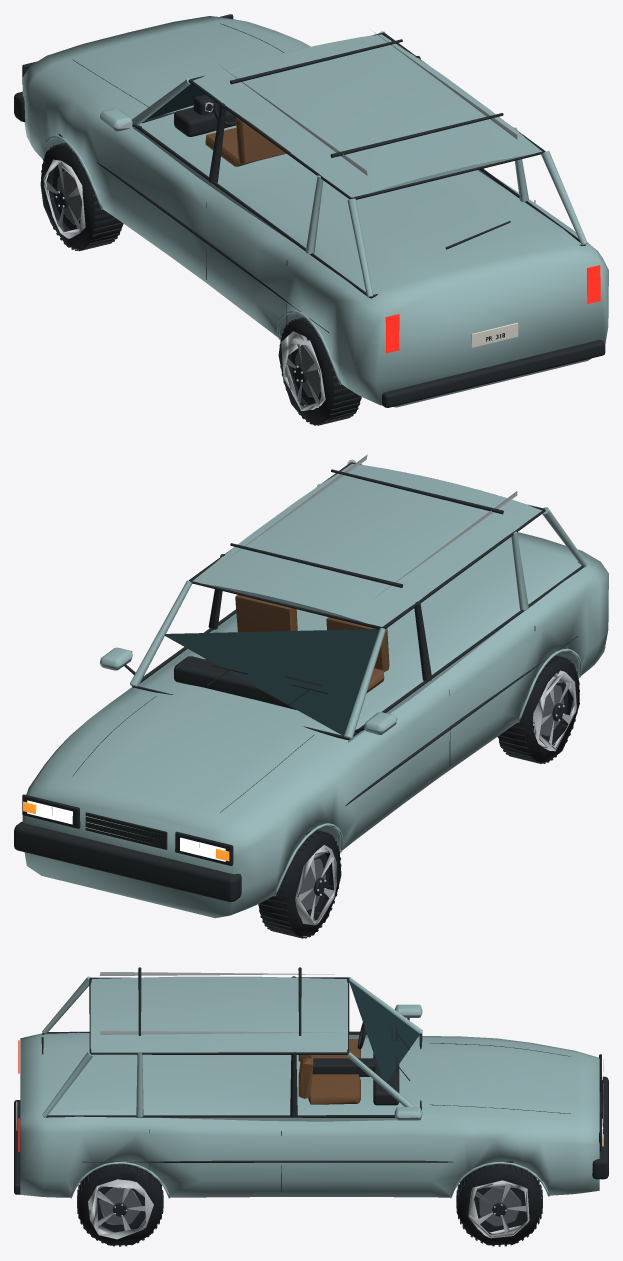
The model's file is traffic-wagon-lod.glb.
3 views of the same model, one above another, from view 1: azimuth 30°, elevation 25°; view 2: azimuth 150°, elevation 25°; view 3: azimuth 270°, elevation 25° (orthographic). The views are drawn at different scales.
Parts seen in each view (by area): view 1: Traffic enamel.001, Traffic polymer.001, Traffic tire rubber.001, Traffic satin alloy.001, Traffic upholstery.001, Dark brake steel.001, Traffic ruby lamps.001, Traffic registration.001, Traffic smoked glazing.001; view 2: Traffic enamel.001, Traffic polymer.001, Traffic smoked glazing.001, Traffic tire rubber.001, Traffic satin alloy.001, Traffic upholstery.001, Dark brake steel.001, Traffic ivory lamps.001; view 3: Traffic enamel.001, Traffic polymer.001, Traffic tire rubber.001, Traffic satin alloy.001, Traffic smoked glazing.001, Traffic upholstery.001, Dark brake steel.001.
Part boxes in pixels (box(x1,y1,x2,y2)): Traffic enamel.001: box(22, 16, 608, 407); Traffic polymer.001: box(14, 14, 605, 425); Traffic tire rubber.001: box(40, 144, 361, 424); Traffic satin alloy.001: box(43, 30, 517, 410); Traffic upholstery.001: box(205, 116, 290, 166); Dark brake steel.001: box(57, 170, 320, 397); Traffic ruby lamps.001: box(385, 265, 600, 353); Traffic registration.001: box(471, 323, 518, 347); Traffic smoked glazing.001: box(146, 84, 204, 119); Traffic enamel.001: box(22, 459, 608, 918); Traffic polymer.001: box(14, 462, 605, 938); Traffic smoked glazing.001: box(165, 629, 378, 735); Traffic tire rubber.001: box(259, 657, 579, 936); Traffic satin alloy.001: box(51, 454, 577, 925); Traffic upholstery.001: box(205, 593, 389, 693); Dark brake steel.001: box(298, 685, 564, 910); Traffic ivory lamps.001: box(27, 800, 225, 861); Traffic enamel.001: box(20, 976, 599, 1198); Traffic polymer.001: box(14, 967, 608, 1246); Traffic tire rubber.001: box(77, 1164, 541, 1245); Traffic satin alloy.001: box(88, 972, 603, 1239); Traffic smoked glazing.001: box(349, 981, 419, 1082); Traffic upholstery.001: box(298, 1038, 360, 1104); Dark brake steel.001: box(98, 1187, 521, 1226).
Size of the model in its own units: 2.12 by 1.78 by 4.83.
